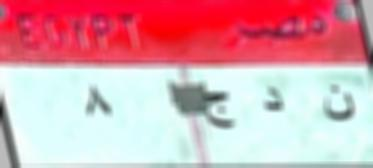8: (83, 84, 114, 124)
daal: (258, 86, 289, 120)
jeem: (198, 85, 237, 136)
noon: (320, 80, 359, 128)
